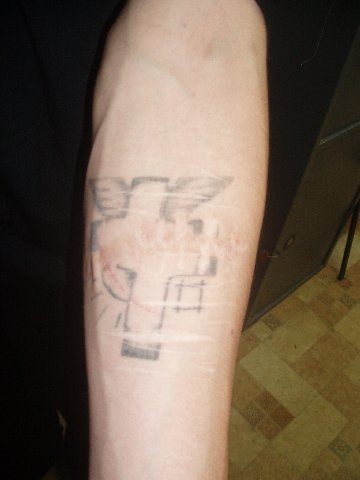tatu3_bukva: (88, 173, 218, 366)
